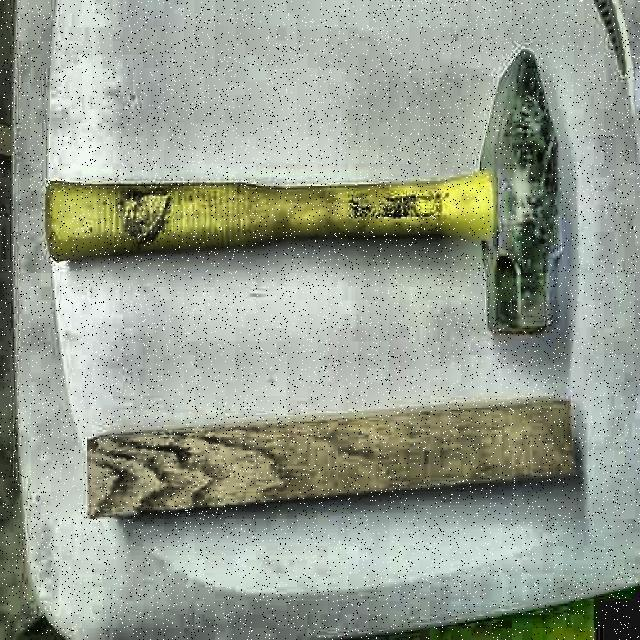hammer: (42, 48, 570, 340)
